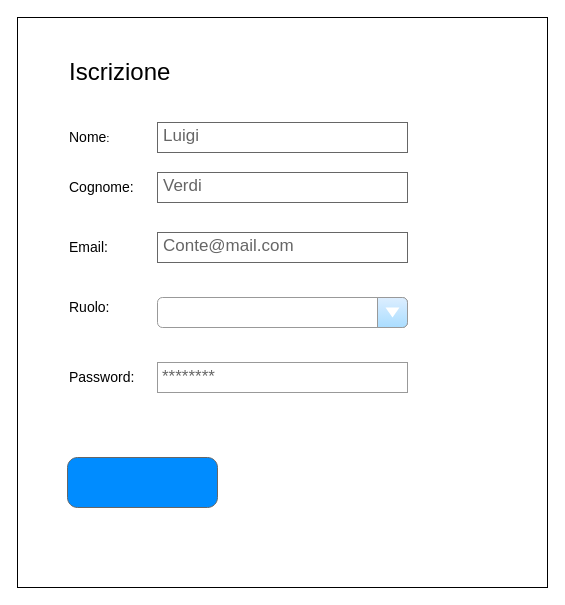
Some shapes in this 565 by 605 pixel diagram are drawn without their labels. Here are the shapes that lost their labels. From the top down, the centre of each, then its label:
At (x=282, y=312): "Allenatore".
At (x=142, y=482): "Iscrivimi".
